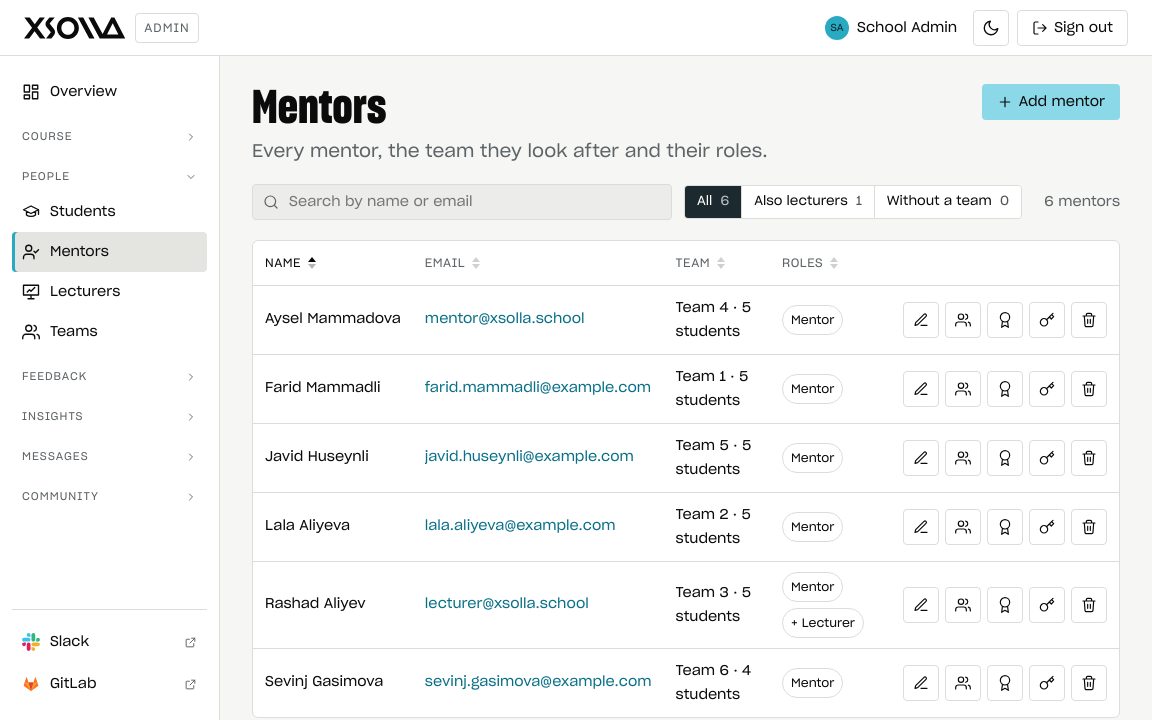
Test: Admin: mentors › the mentor role they were created with cannot be changed; the last day must not be in the past
Click the button named "Roles of Aysel Mammadova" at (1005,320), box top-left (987, 302), bottom-right (1023, 338)
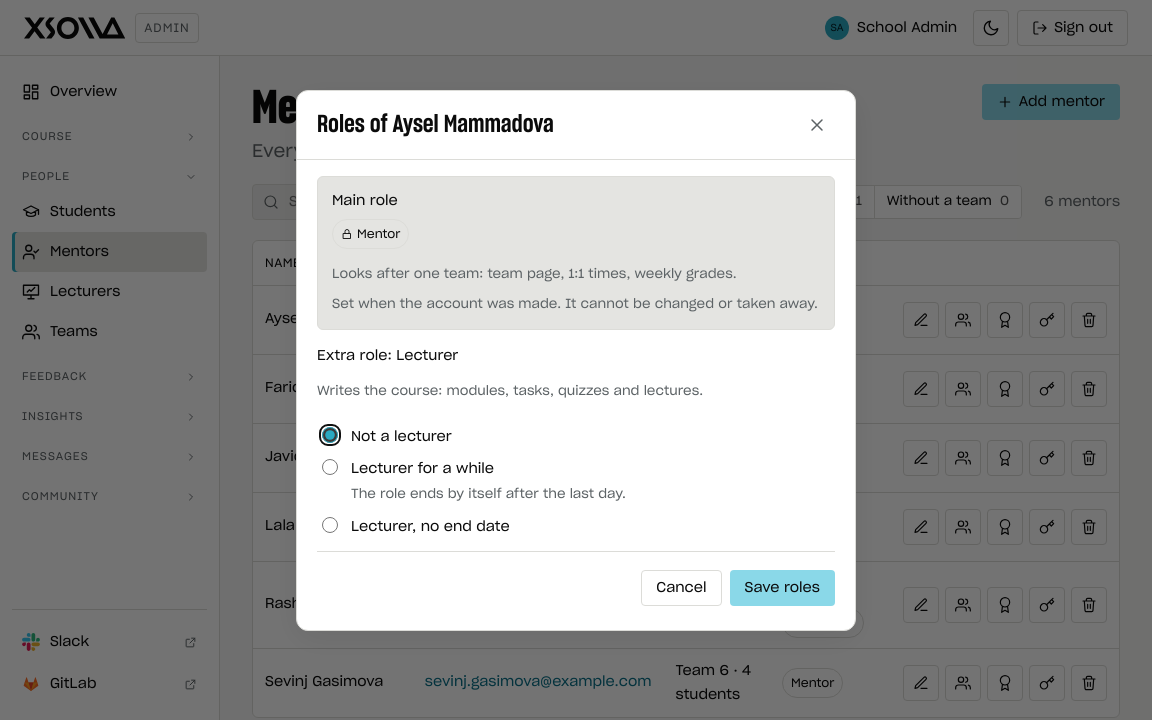
Expected: the element "Main role" shows "It cannot be changed or taken away.", top-left (332, 298), bottom-right (818, 310)
Click the radio button labelled "Lecturer for a while" at (330,466), box top-left (322, 458), bottom-right (338, 474)
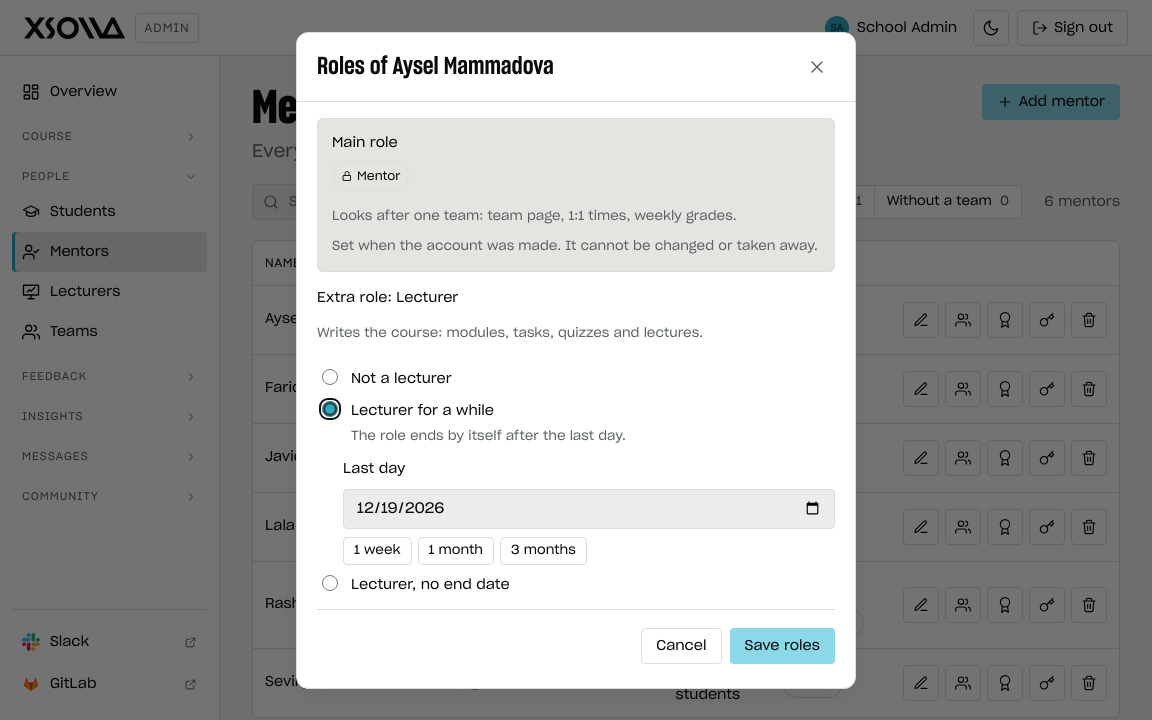
Type "2020-01-01" into the date field labelled "Last day" at (589,508), box top-left (343, 488), bottom-right (835, 528)
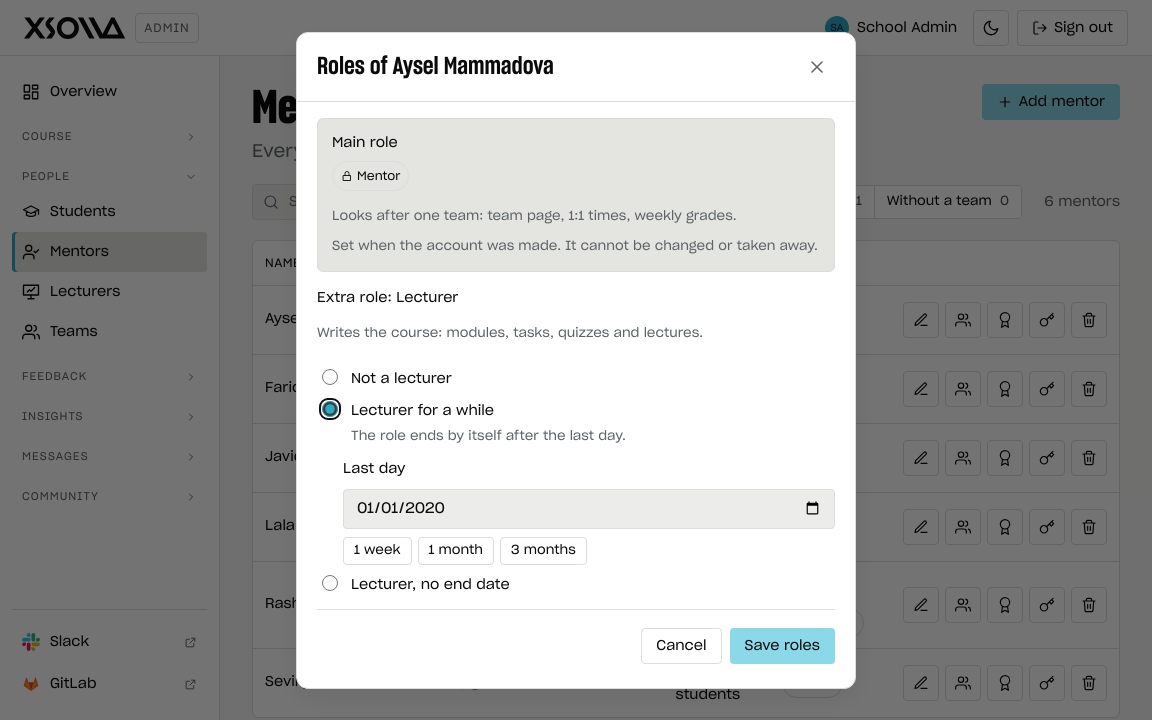
Click the button "Save roles" at (782,646), box top-left (730, 628), bottom-right (835, 664)
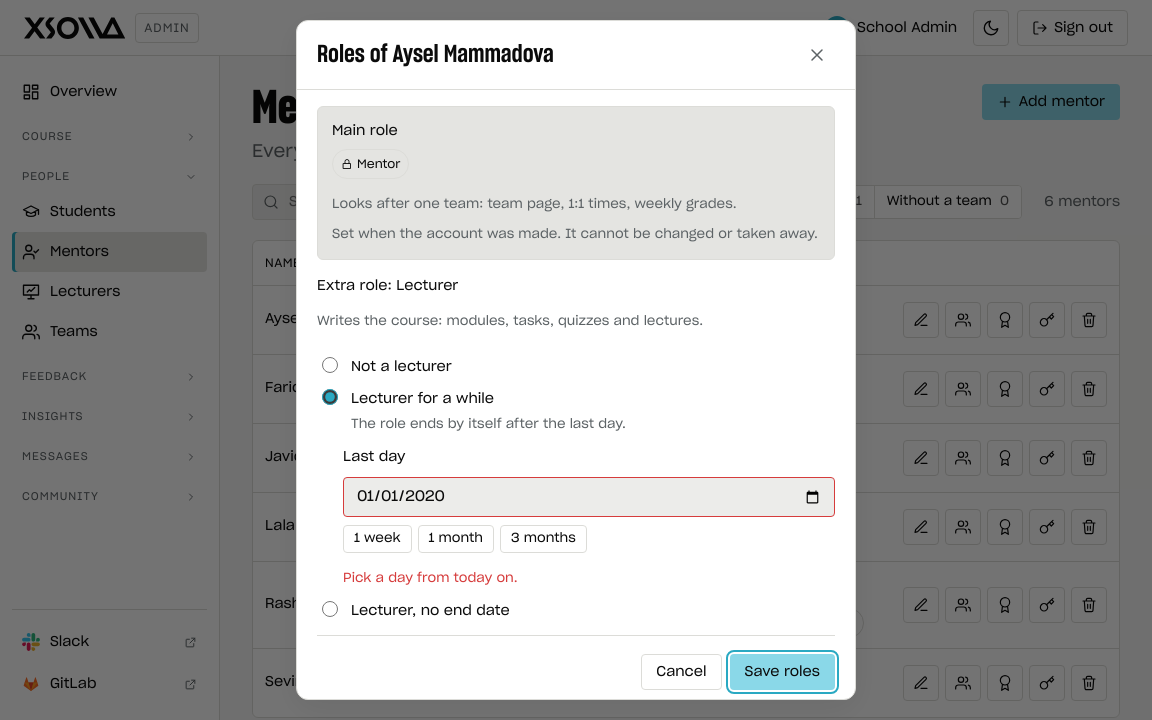
Expected: the text "Pick a day from today on." is shown, top-left (343, 572), bottom-right (518, 585)
